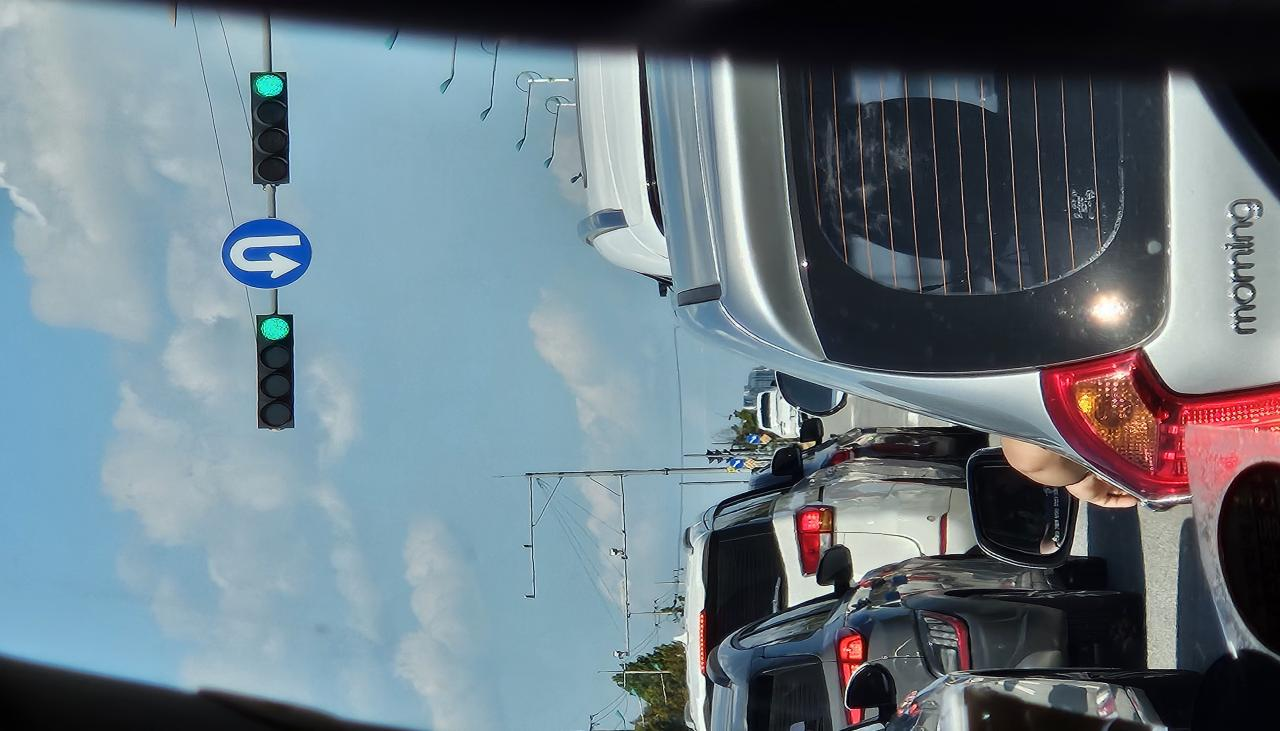Green Light: (510, 195, 548, 223), (831, 191, 866, 219)
